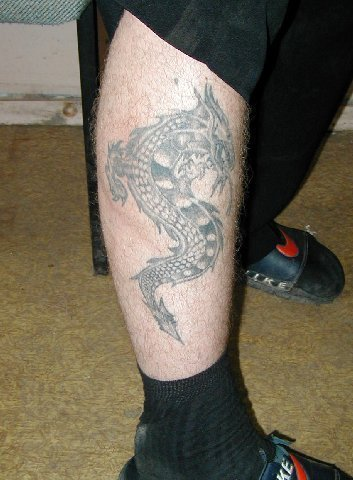tatu6_drakon: (101, 83, 249, 349)
